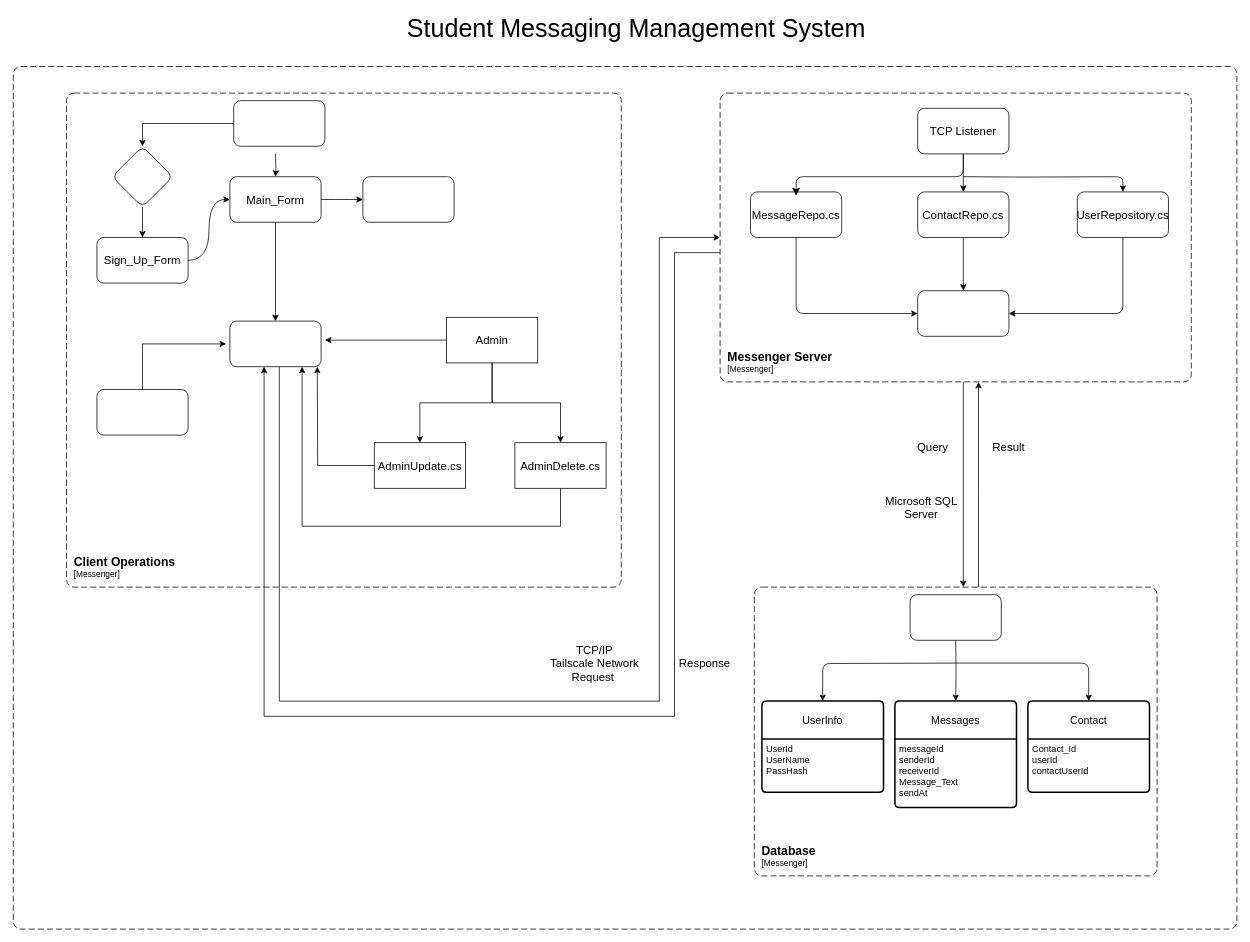
This 1250x942 diagram has some shape labels left out. Here are the shapes that lost their labels. From the top down, the centre of each, then its label:
At point 279,123: "Sign_In_Form".
At point 142,176: "if not registered".
At point 408,199: "Search_Form".
At point 963,313: "Database.cs".
At point 275,343: "Client.cs".
At point 142,412: "Message.cs".
At point 955,617: "MessengerDB".
